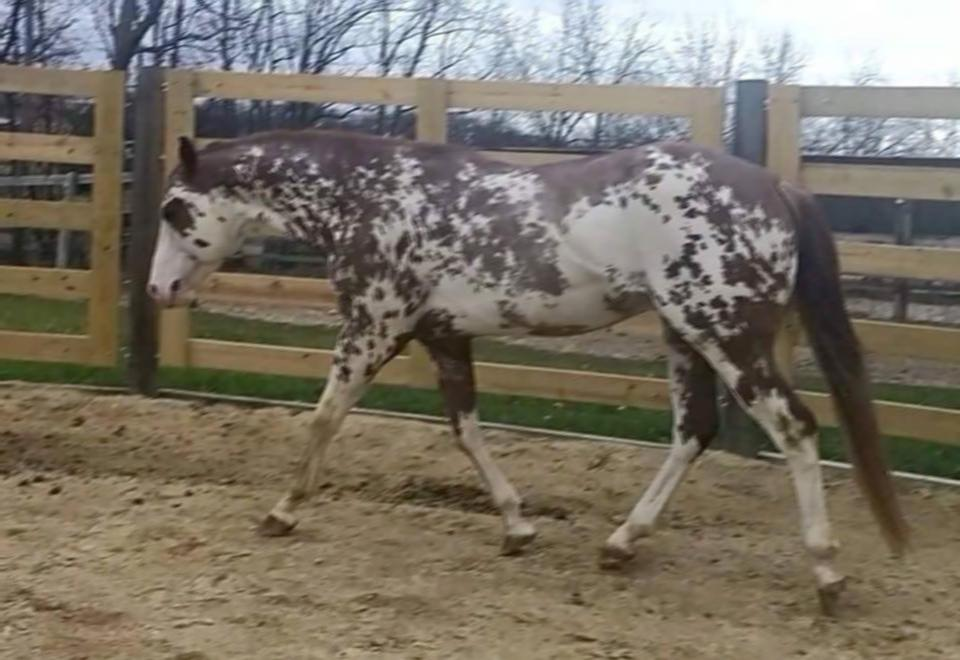horse: (145, 126, 912, 616)
